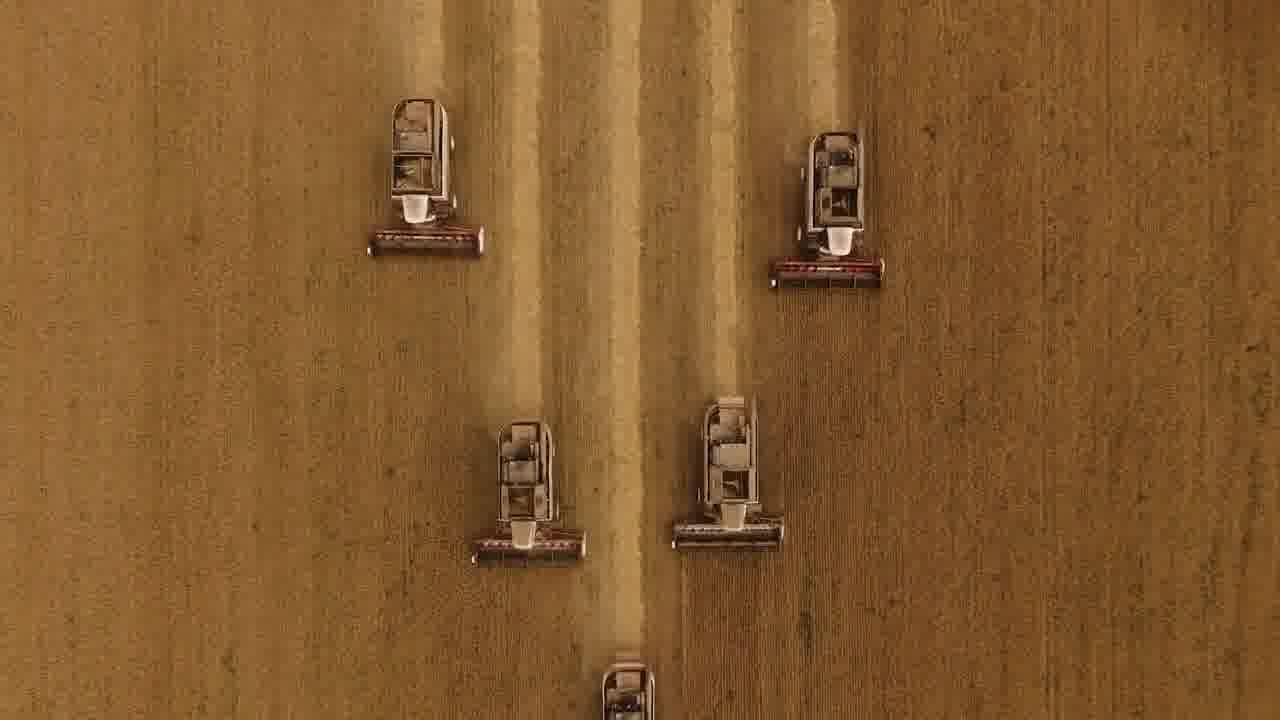combine harvester: (662, 381, 790, 560), (358, 95, 491, 262), (766, 122, 893, 296), (467, 410, 593, 571), (598, 653, 662, 720)
